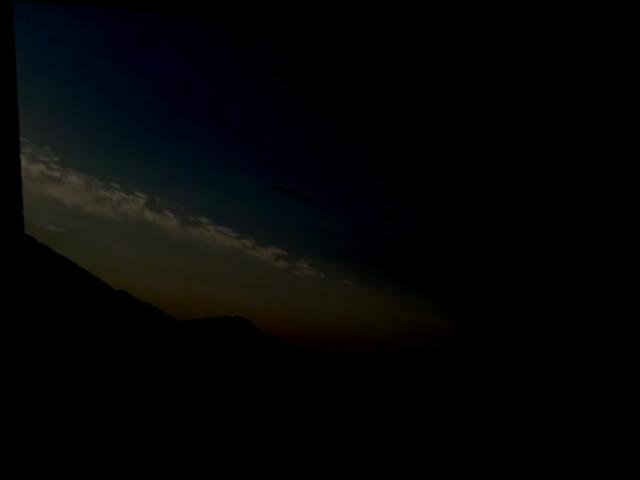iha: (272, 178, 310, 201)
